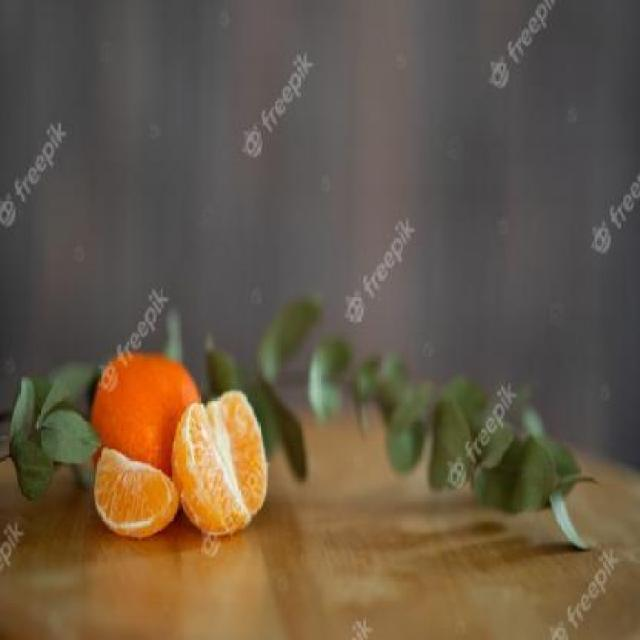Jeruk Sudah Matang: (91, 342, 200, 509)
